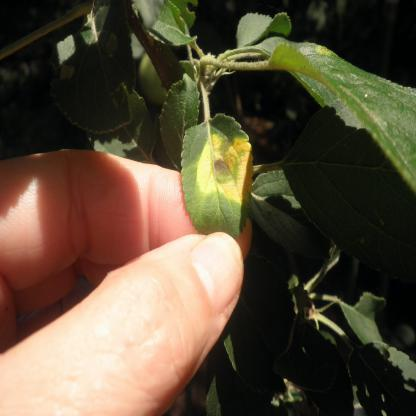Apple rust leaf: (177, 113, 257, 240)
